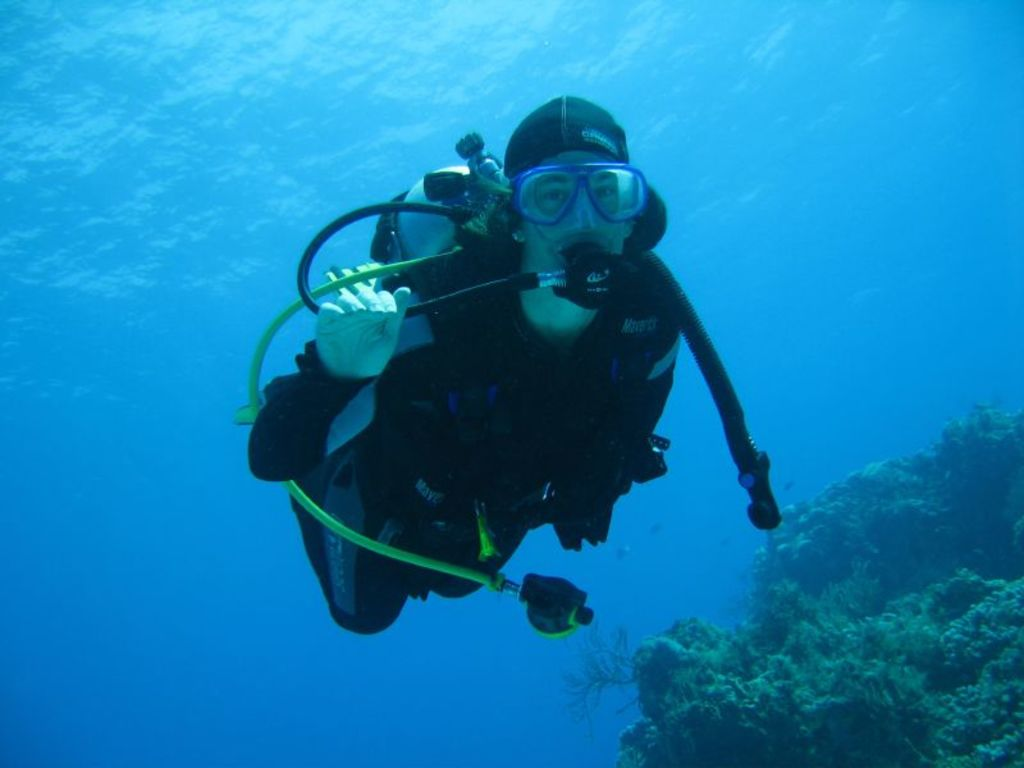Person: (243, 96, 681, 634)
